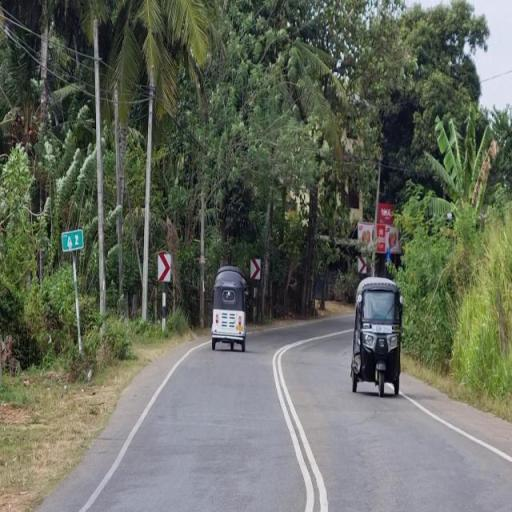double_white_line: (272, 332, 336, 511), (0, 6, 45, 65)
